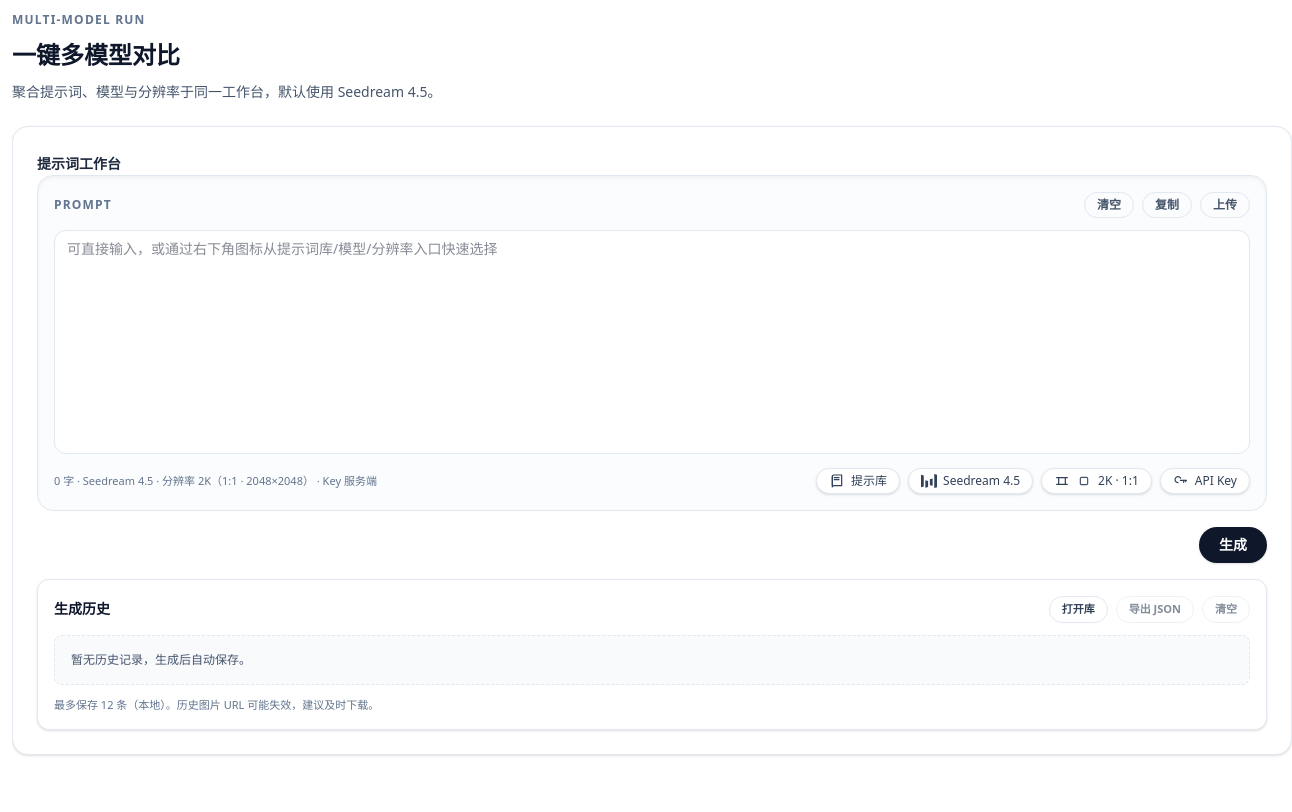
GenerateClient (MSW) › requires a non-empty prompt
This screenshot has width=1292, height=812.
Click the button "生成" at [1233, 545], box top-left (1199, 527), bottom-right (1267, 563)
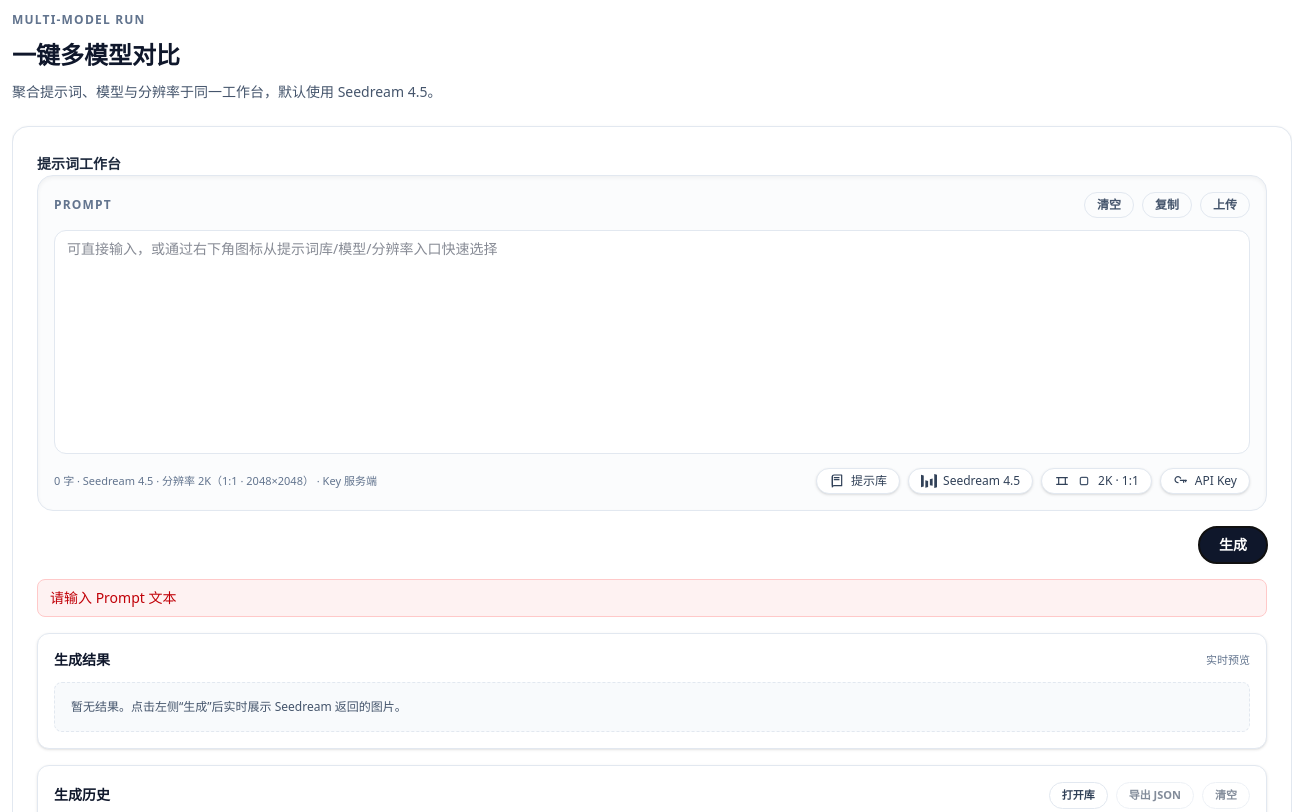
Expected: the text "请输入 Prompt 文本" is shown, top-left (37, 579), bottom-right (1267, 617)
